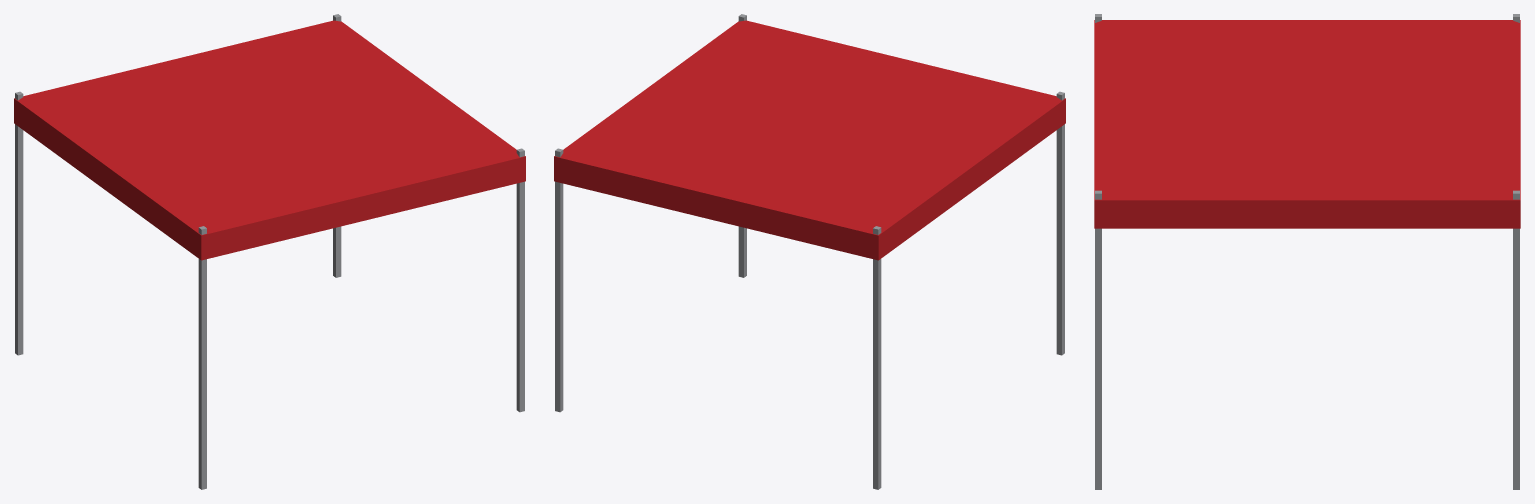
File: canopy_red.dae
3 views of the same model, side by side, from view 1: azimuth 30°, elevation 25°; view 2: azimuth 150°, elevation 25°; view 3: azimuth 270°, elevation 25° (orthographic). The views are drawn at different scales.
Parts seen in each view (by area): view 1: marker; view 2: marker; view 3: marker.
Boxes of the visible parts, bbox=[...] form: marker: bbox=[14, 14, 525, 489]; marker: bbox=[554, 14, 1065, 489]; marker: bbox=[1094, 14, 1520, 489].
Size of the model in its own units: 3 by 3 by 2.85.
Materials: 1 (1 with a texture image).
